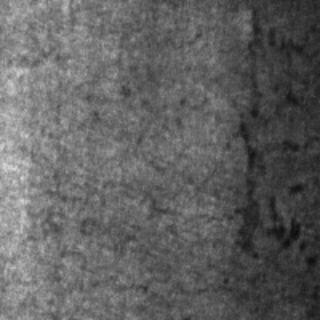crazing: (42, 182, 230, 294), (232, 3, 308, 260)
